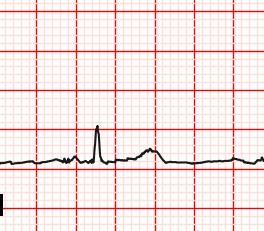LVH: (126, 142, 171, 169)
Poor R Progression: (90, 122, 110, 166)
